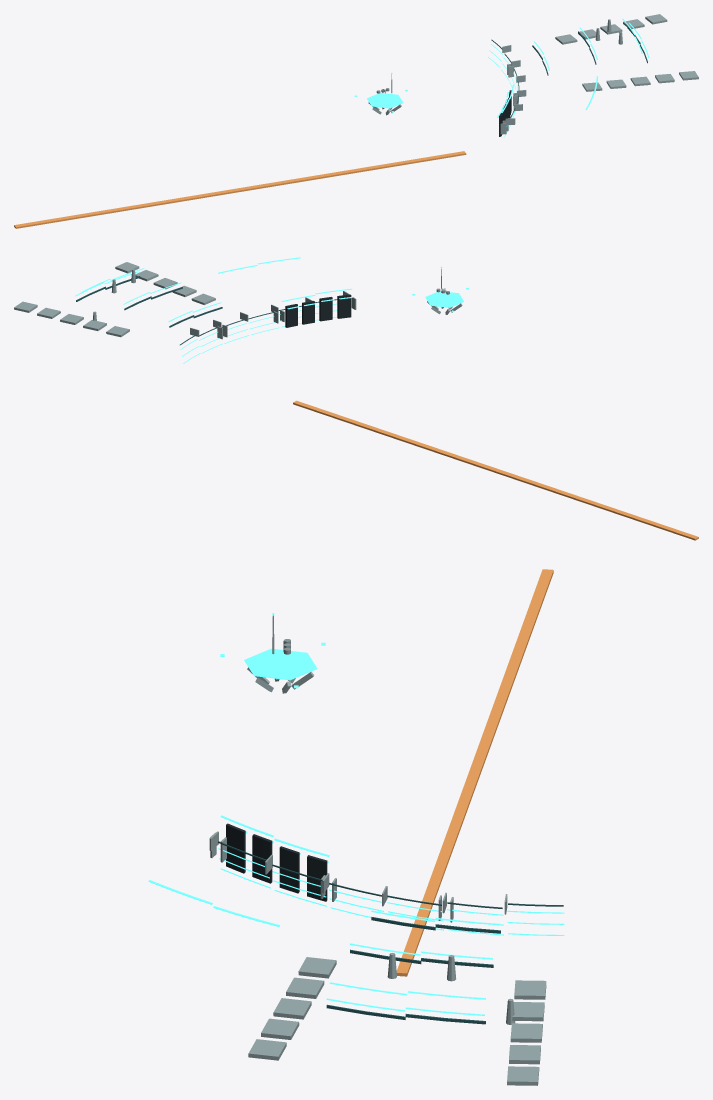
The model's file is Weather_Lung_Sector_11_Dressing.glb.
3 renders of one model, top to bottom at view 1: azimuth 30°, elevation 25°; view 2: azimuth 150°, elevation 25°; view 3: azimuth 270°, elevation 25°, orthographic. The views are drawn at different scales.
Parts seen in each view (by area): view 1: Weather_Lung_Sector_11_Dressing; view 2: Weather_Lung_Sector_11_Dressing; view 3: Weather_Lung_Sector_11_Dressing.
Boxes of the visible parts, bbox=[...] form: Weather_Lung_Sector_11_Dressing: bbox=[14, 14, 698, 228]; Weather_Lung_Sector_11_Dressing: bbox=[14, 257, 698, 540]; Weather_Lung_Sector_11_Dressing: bbox=[148, 569, 564, 1085].
Size of the model in its own units: 11952 by 2309 by 3349.
